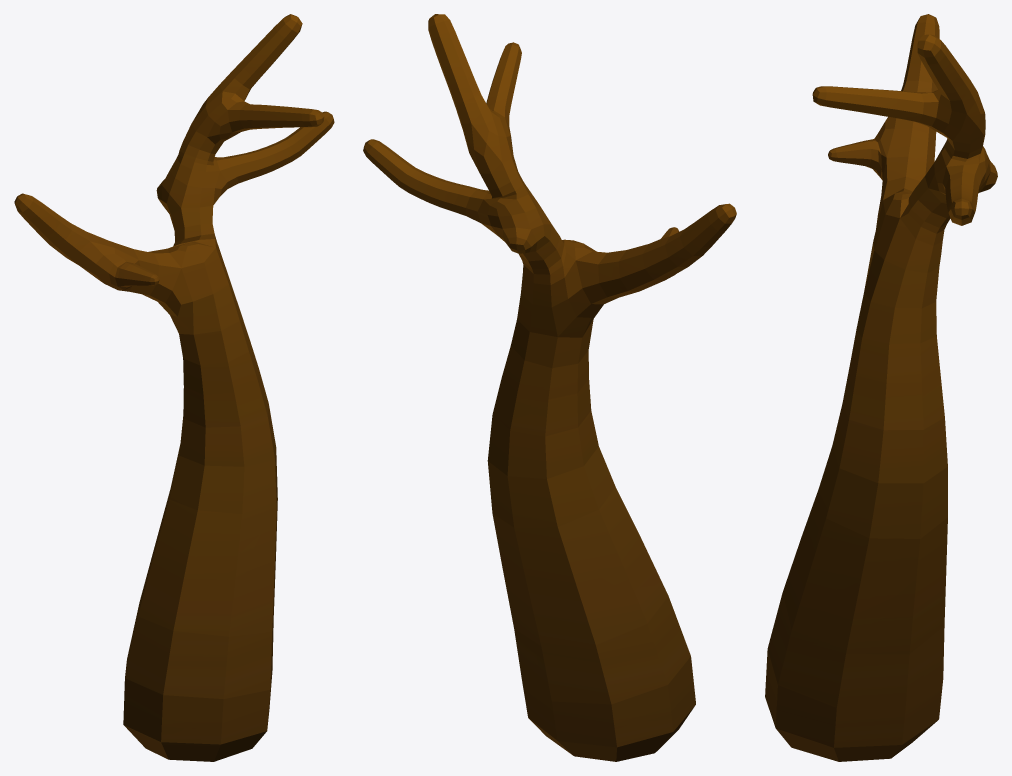
Rendered from arbol3.fbx.
The picture shows the model from 3 angles, left to right: view 1: azimuth 30°, elevation 25°; view 2: azimuth 150°, elevation 25°; view 3: azimuth 270°, elevation 25°; orthographic projection. The views are drawn at different scales.
Parts seen in each view (by area): view 1: Plane.002; view 2: Plane.002; view 3: Plane.002.
Boxes of the visible parts, x1=… form: Plane.002: x1=14, y1=14, x2=334, y2=761; Plane.002: x1=363, y1=14, x2=736, y2=761; Plane.002: x1=765, y1=14, x2=997, y2=761.
Bounding box in the file's own units: 167 × 327 × 88.01.
